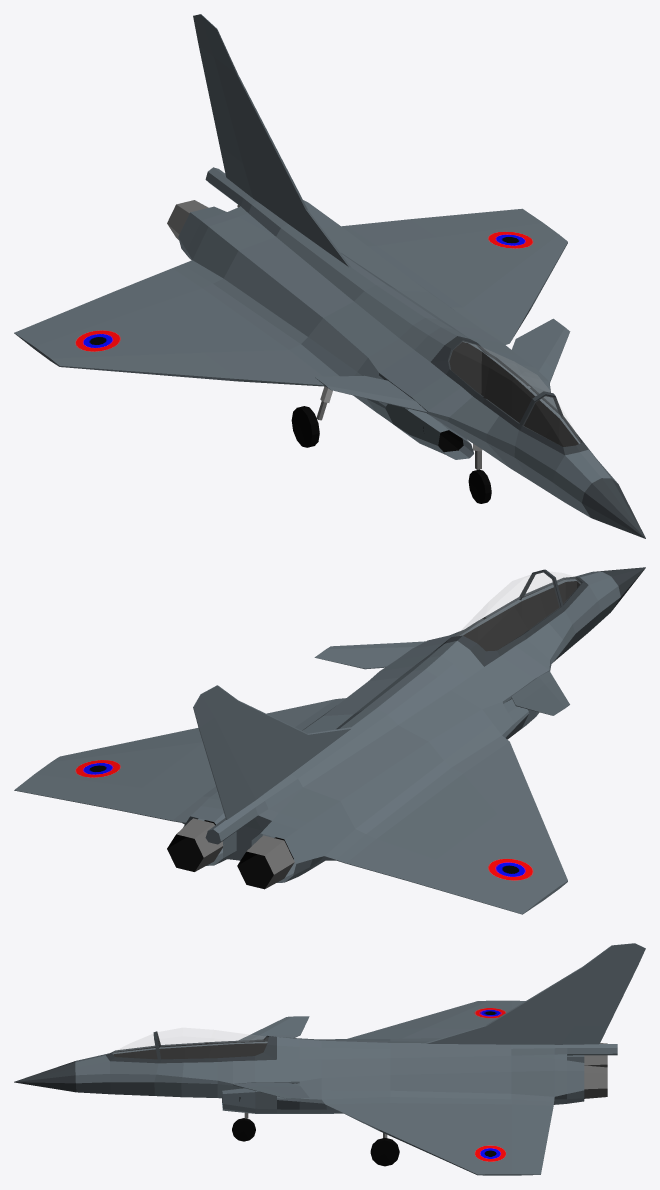
The picture shows the model from 3 angles, top to bottom: view 1: azimuth 30°, elevation 25°; view 2: azimuth 150°, elevation 25°; view 3: azimuth 270°, elevation 25°; orthographic projection. The views are drawn at different scales.
Visible parts, largest first — view 1: Circle.039, Circle.042, Circle.043, Circle.044, Circle.050, Circle.047, Circle.040, Circle.041, Circle.051, Landing gear_RL.007, Landing gear_F.003; view 2: Circle.039, Circle.042, Circle.043, Circle.050, Circle.044, Circle.041, Circle.047, Circle.051, Circle.040; view 3: Circle.039, Circle.043, Circle.044, Circle.050, Circle.051, Circle.040, Circle.047, Landing gear_RL.006, Landing gear_F.003.
Part boxes in pixels (<box>): Circle.039: <box>34,14,645,538</box>; Circle.042: <box>14,291,141,348</box>; Circle.043: <box>199,46,252,197</box>; Circle.044: <box>431,336,562,429</box>; Circle.050: <box>410,208,542,236</box>; Circle.047: <box>511,318,570,382</box>; Circle.040: <box>315,375,427,413</box>; Circle.041: <box>116,268,201,308</box>; Circle.051: <box>346,219,435,245</box>; Landing gear_RL.007: <box>291,386,332,447</box>; Landing gear_F.003: <box>468,444,491,503</box>; Circle.039: <box>35,567,645,900</box>; Circle.042: <box>409,860,542,914</box>; Circle.043: <box>198,717,255,819</box>; Circle.050: <box>14,774,141,809</box>; Circle.044: <box>433,569,564,666</box>; Circle.041: <box>346,839,435,881</box>; Circle.047: <box>314,641,425,669</box>; Circle.051: <box>115,788,201,820</box>; Circle.040: <box>511,671,569,715</box>; Circle.039: <box>14,943,645,1175</box>; Circle.043: <box>560,966,637,1044</box>; Circle.044: <box>155,1028,276,1063</box>; Circle.050: <box>511,1129,548,1175</box>; Circle.051: <box>511,1104,553,1130</box>; Circle.040: <box>238,1016,309,1040</box>; Circle.047: <box>233,1082,309,1098</box>; Landing gear_RL.006: <box>370,1133,399,1166</box>; Landing gear_F.003: <box>232,1113,255,1141</box>.
Size of the model in its own units: 994 by 529 by 1533.
